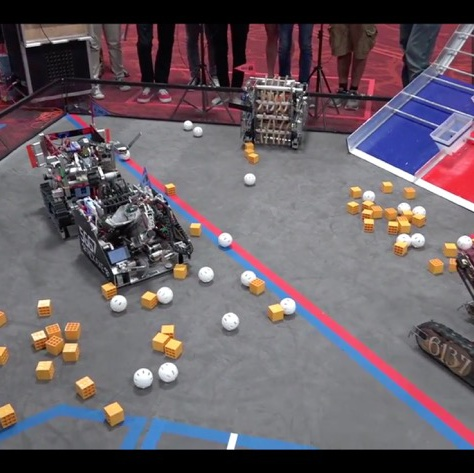robot: (74, 175, 197, 288), (27, 122, 124, 236), (412, 234, 474, 393), (236, 63, 309, 152)
